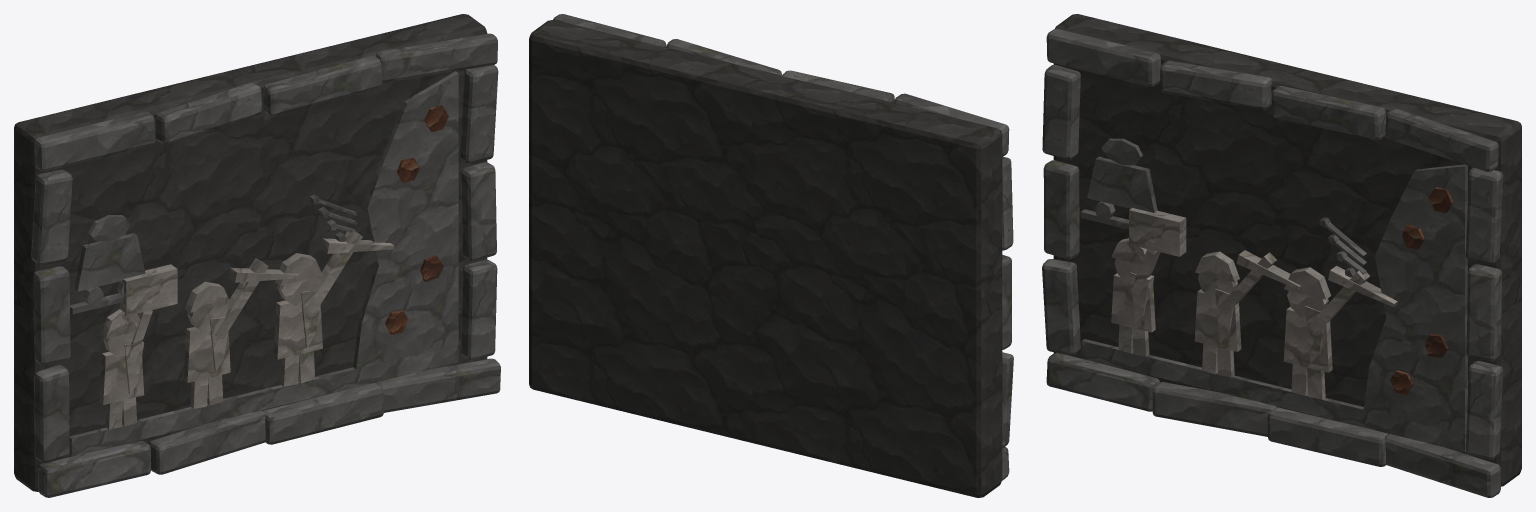
Rendered from wall_carving_1.glb.
3 views of the same model, side by side, from view 1: azimuth 30°, elevation 25°; view 2: azimuth 150°, elevation 25°; view 3: azimuth 330°, elevation 25° (orthographic).
Visible parts, largest first — view 1: model; view 2: model; view 3: model.
Boxes of the visible parts, x1,y1,x2,y2 form: model: [14, 14, 500, 497]; model: [529, 14, 1013, 497]; model: [1042, 14, 1521, 497].
Size of the model in its own units: 1.62 by 1.21 by 0.2122.
4 materials, 4 textured.
